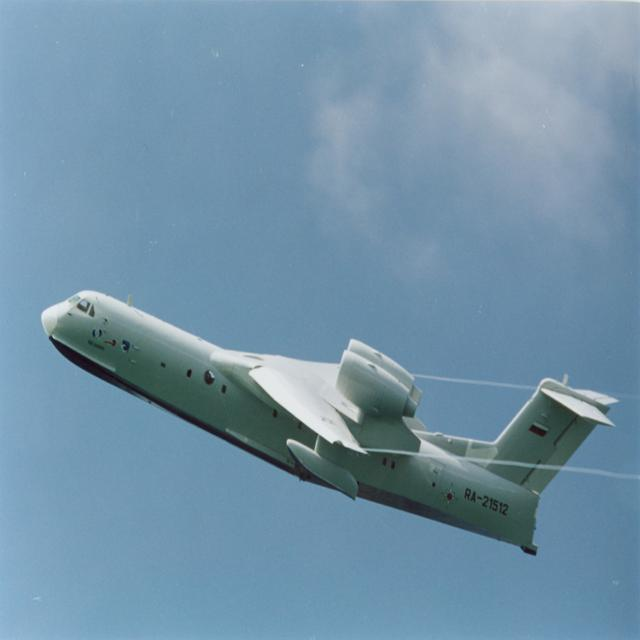MIL_Plane: (0, 290, 364, 556)
